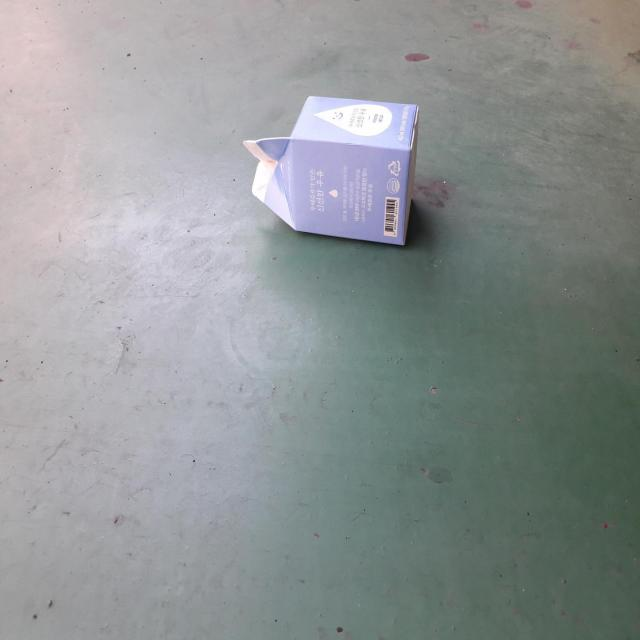paperpack: (244, 96, 419, 245)
